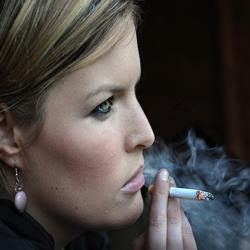smoking: (128, 167, 217, 250)
